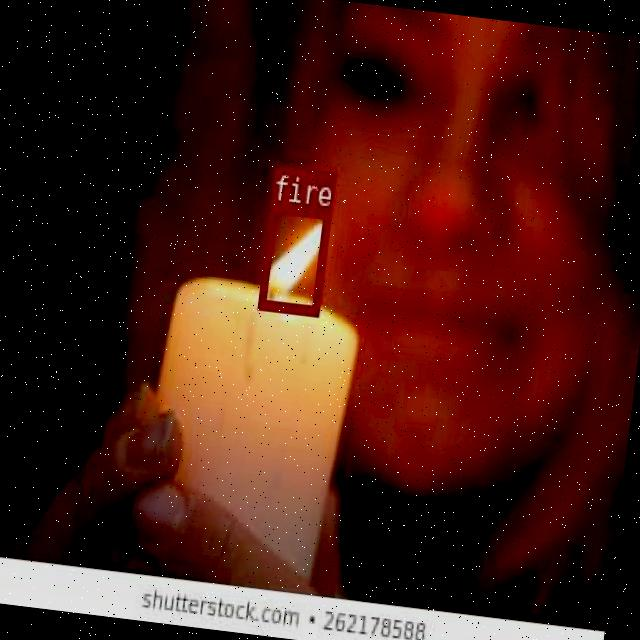fire: (257, 200, 330, 314)
